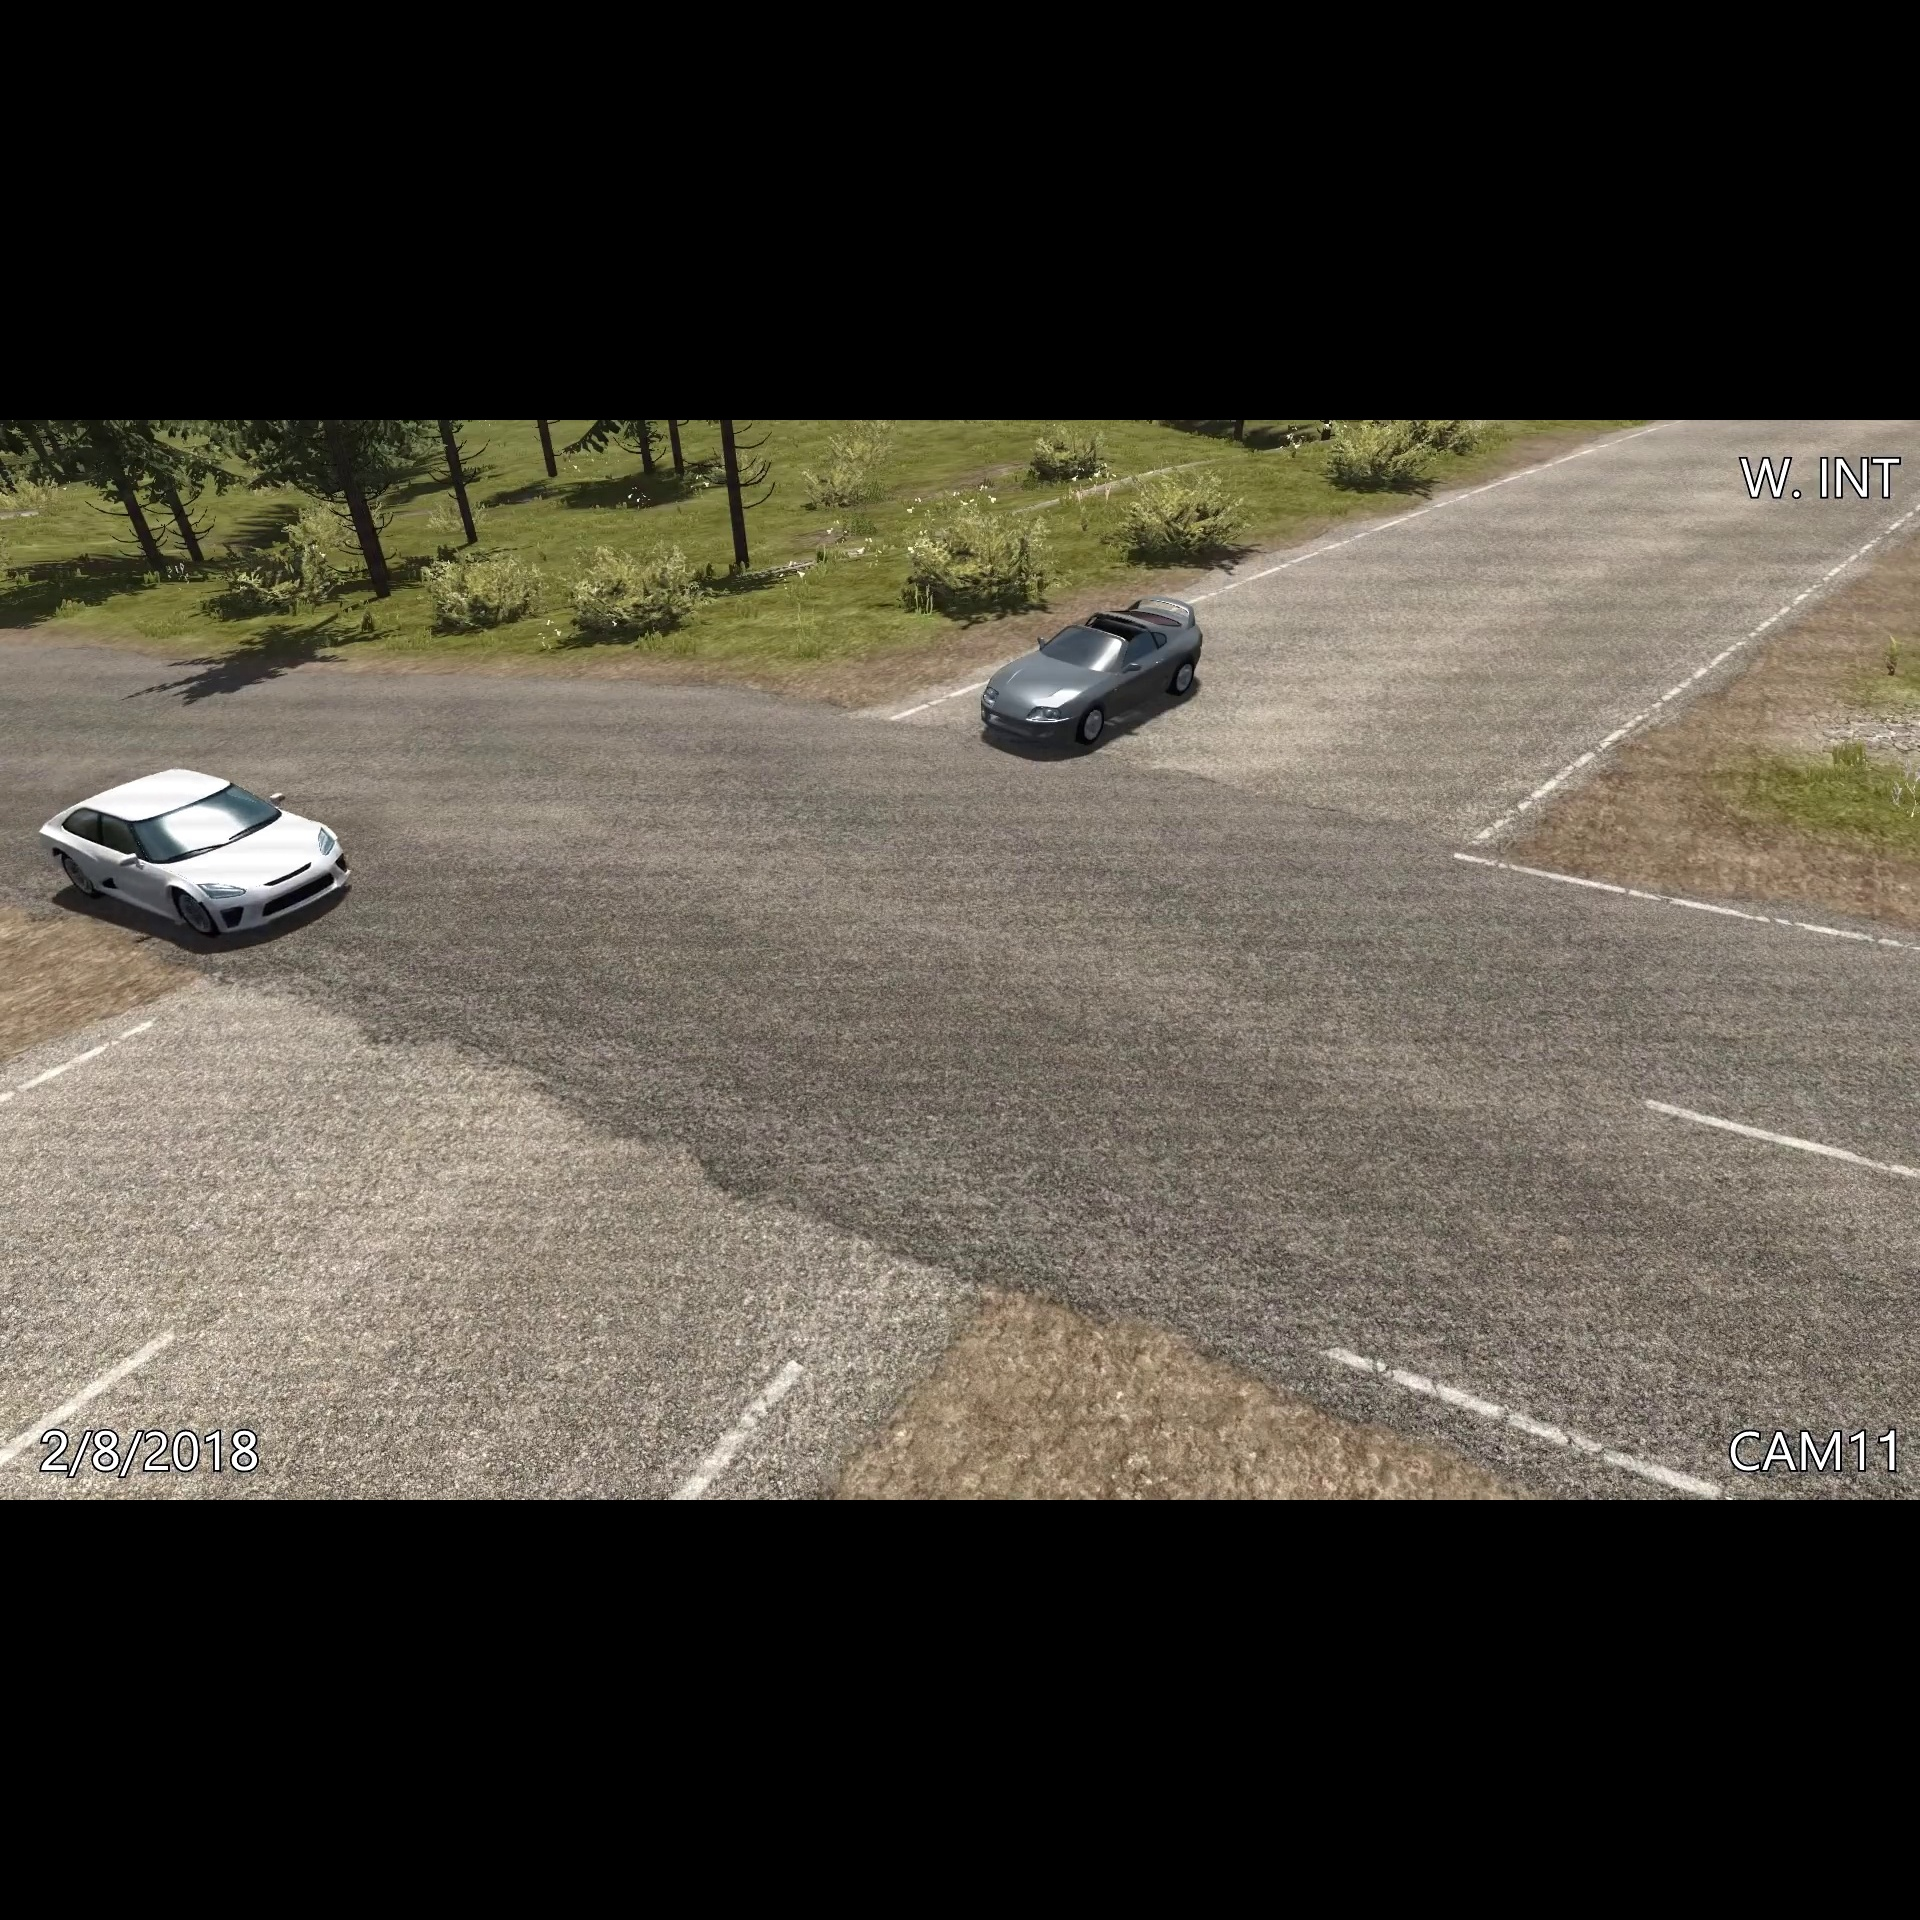vehicle: (33, 767, 357, 948), (971, 594, 1213, 758)
